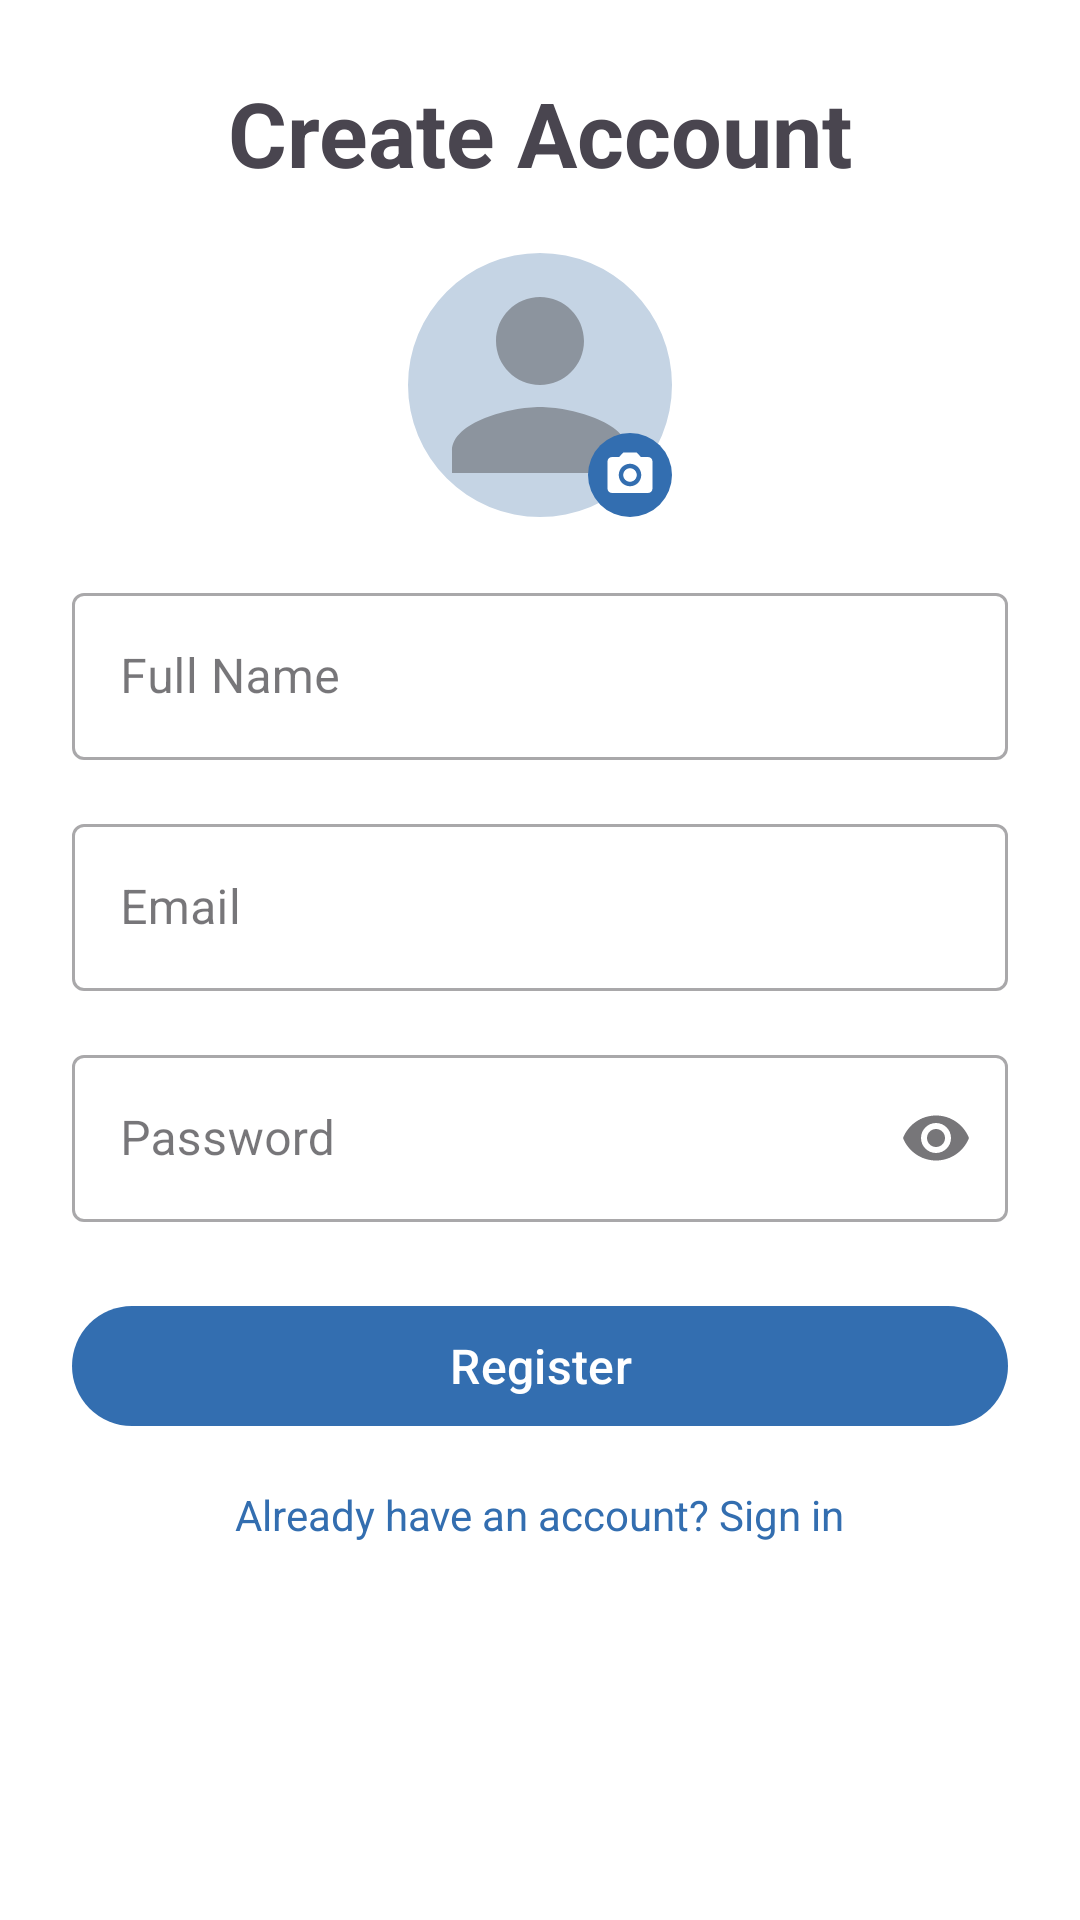

Where to tap for icons on this 1080px x 1920px app screen, as [x,y]:
Add photo: [630,475]
